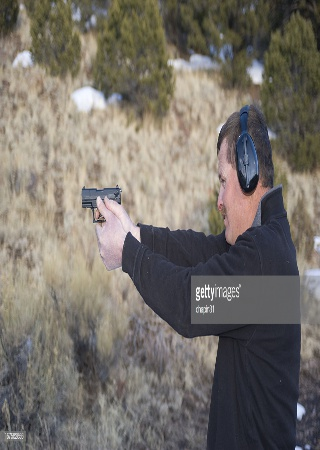handgun: (78, 182, 127, 226)
